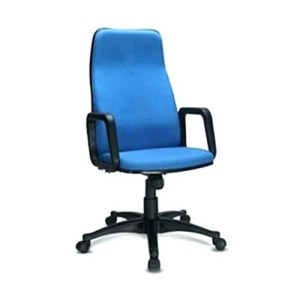chair: (75, 27, 228, 273)
